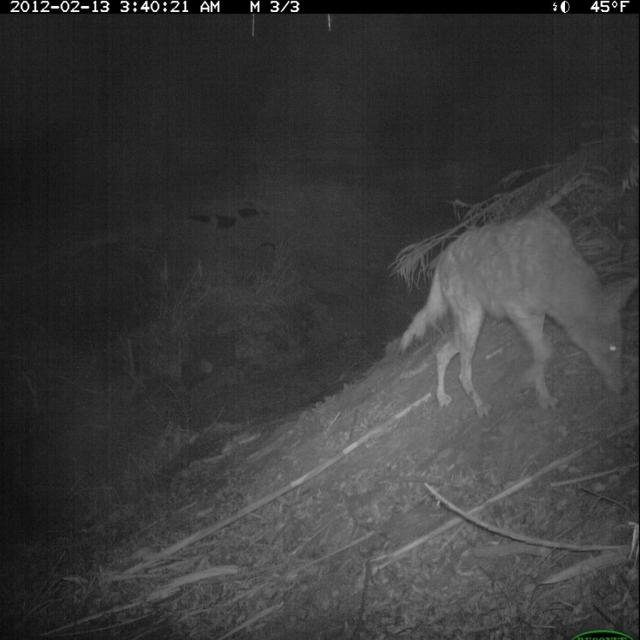coyote: (395, 193, 640, 422)
